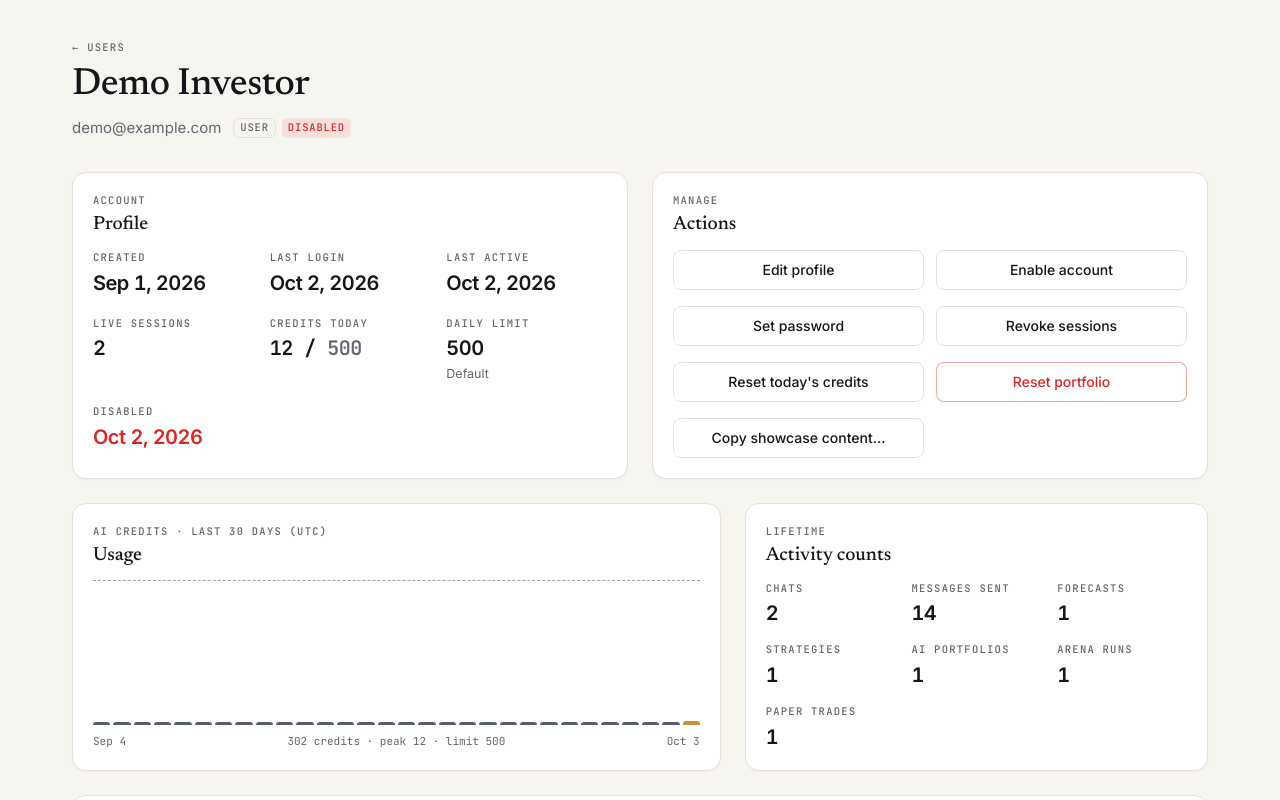
UserDetailPage › enables a disabled account without a confirmation, and toasts a failure
Click the button "Enable account" at (1062, 270), box [936, 250, 1187, 290]
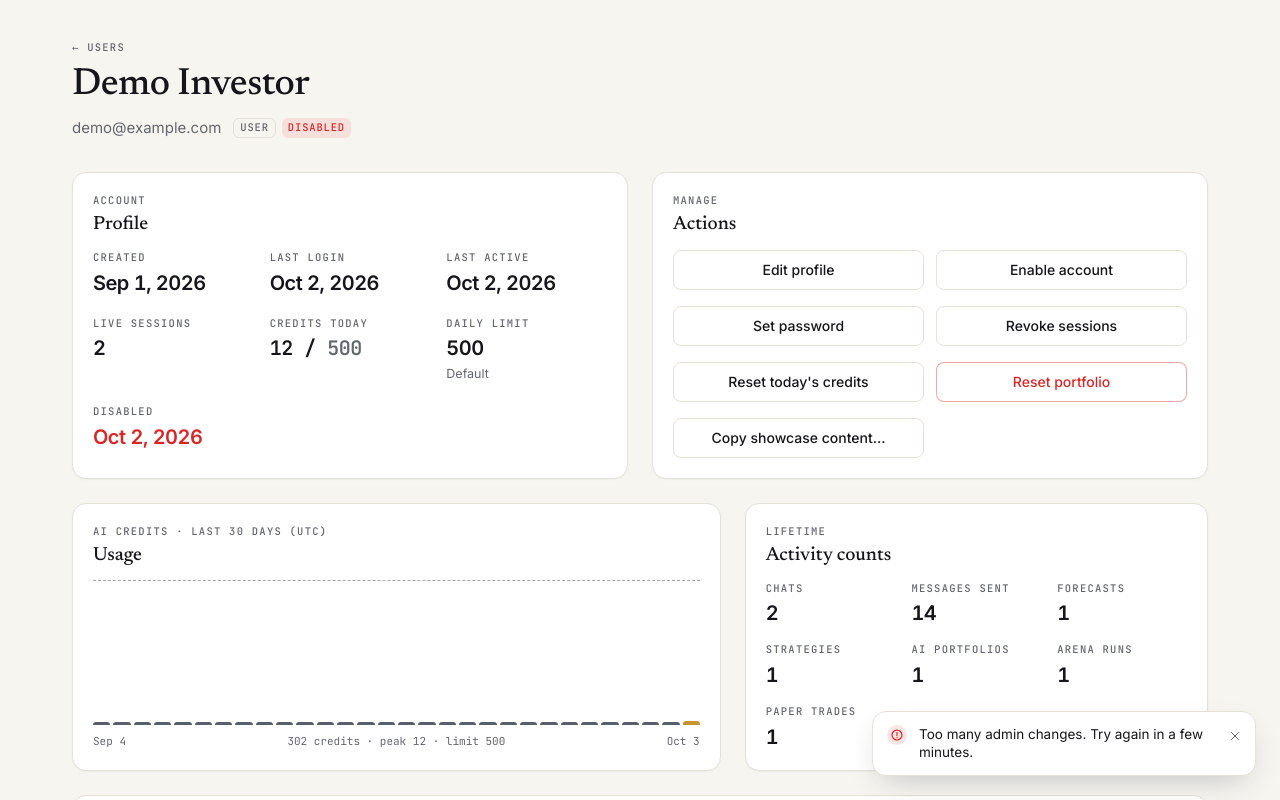
Expected: the message reads "Too many admin changes. Try again in a few minutes.", [919, 726, 1203, 760]
Click the button "Enable account" at (1062, 270), box [936, 250, 1187, 290]
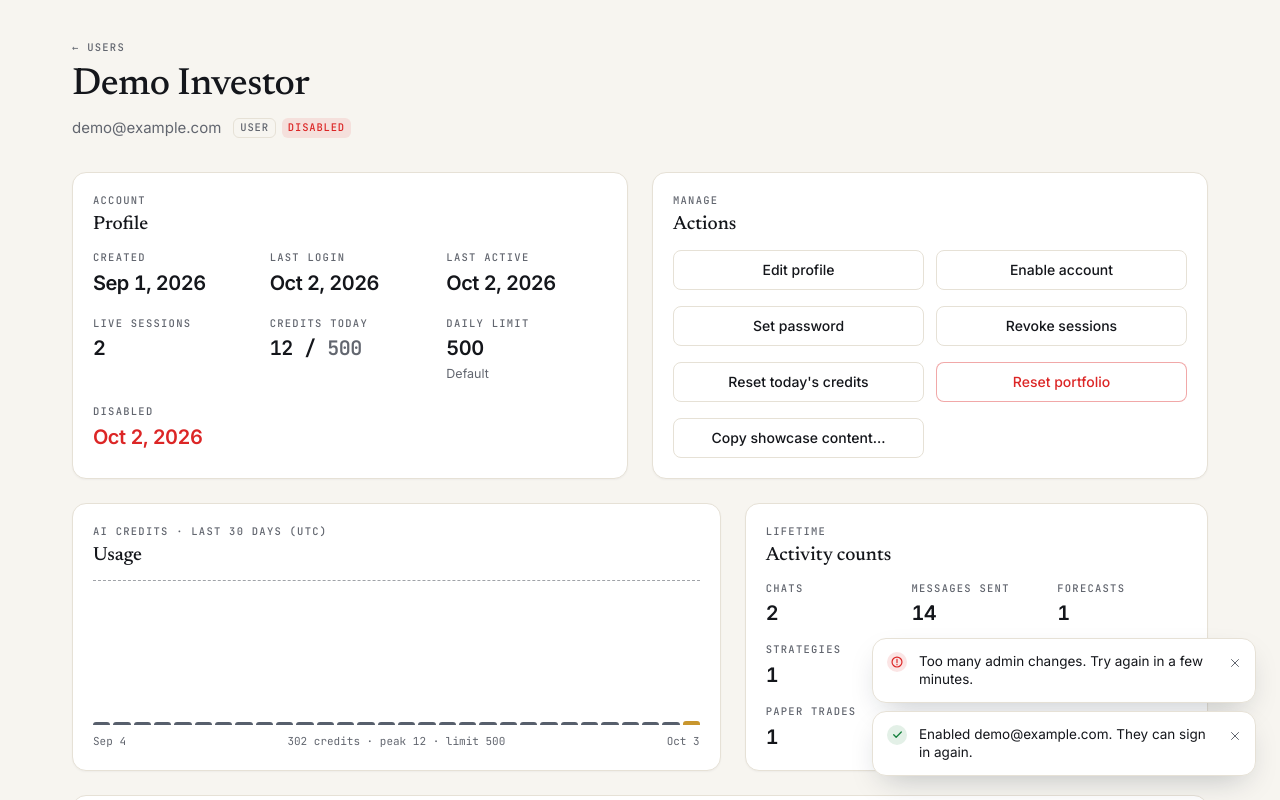
Expected: the text "Enabled demo@example.com. They can sign in again." is shown, [919, 724, 1211, 763]
